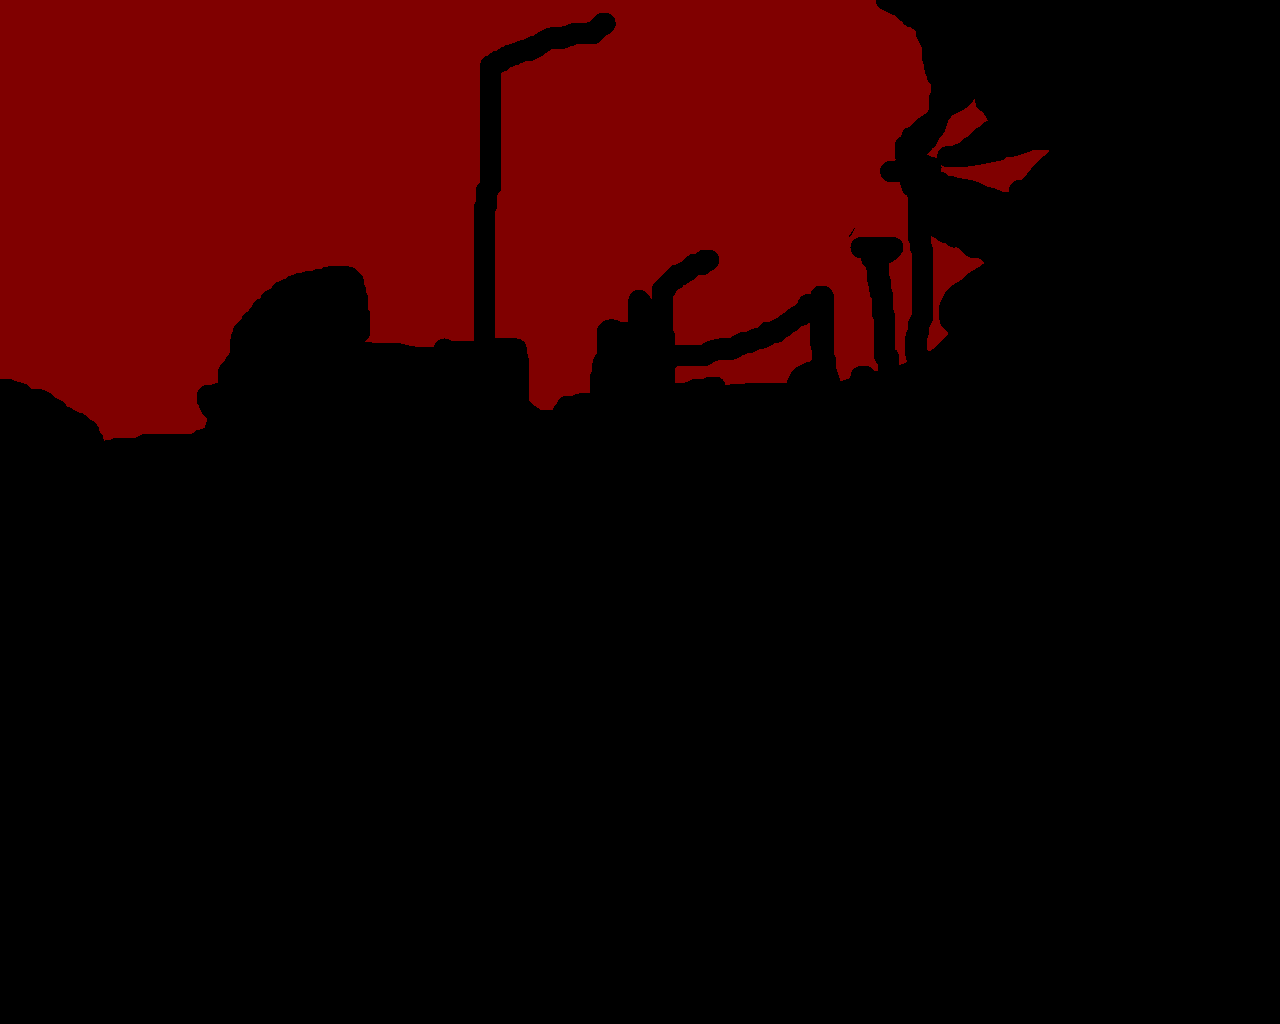Sky: (1, 1, 1048, 441)
